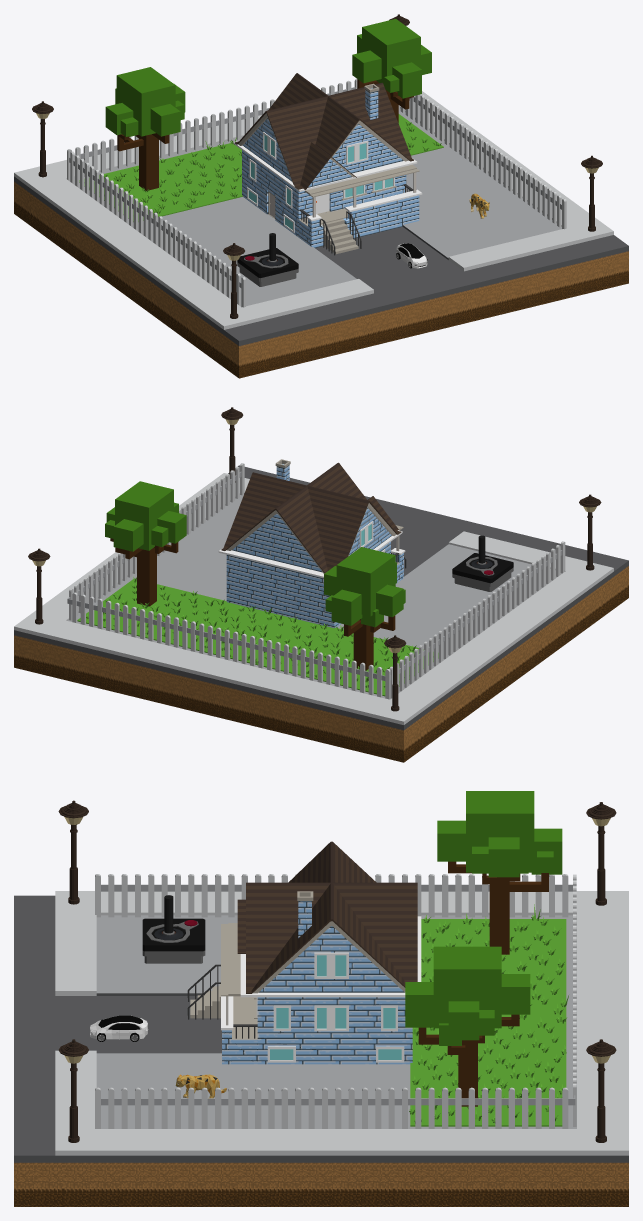
3 views of the same model, one above another, from view 1: azimuth 30°, elevation 25°; view 2: azimuth 150°, elevation 25°; view 3: azimuth 270°, elevation 25° (orthographic). The views are drawn at different scales.
Visible parts, largest first — view 1: Cube.004, Cube.547, OBJRANDOM_JOYSTICK, VEHICLES_TESLA; view 2: Cube.004, Cube.547, OBJRANDOM_JOYSTICK; view 3: Cube.004, Cube.547, OBJRANDOM_JOYSTICK, VEHICLES_TESLA, ANIMAL_JAGUAR.
Boxes of the visible parts, x1=… form: Cube.004: x1=14, y1=14, x2=628, y2=378; Cube.547: x1=233, y1=73, x2=422, y2=255; OBJRANDOM_JOYSTICK: x1=237, y1=233, x2=298, y2=286; VEHICLES_TESLA: x1=396, y1=243, x2=427, y2=268; Cube.004: x1=14, y1=407, x2=628, y2=762; Cube.547: x1=218, y1=459, x2=406, y2=627; OBJRANDOM_JOYSTICK: x1=452, y1=535, x2=513, y2=591; Cube.004: x1=14, y1=791, x2=628, y2=1206; Cube.547: x1=187, y1=841, x2=421, y2=1064; OBJRANDOM_JOYSTICK: x1=142, y1=895, x2=205, y2=963; VEHICLES_TESLA: x1=90, y1=1015, x2=148, y2=1041; ANIMAL_JAGUAR: x1=175, y1=1074, x2=226, y2=1098.
Size of the model in its own units: 4000 by 1600 by 4000.
37 materials, 4 textured.
